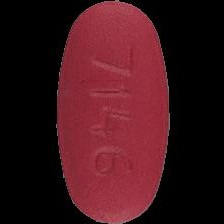66116-509: (0, 0, 224, 224)
